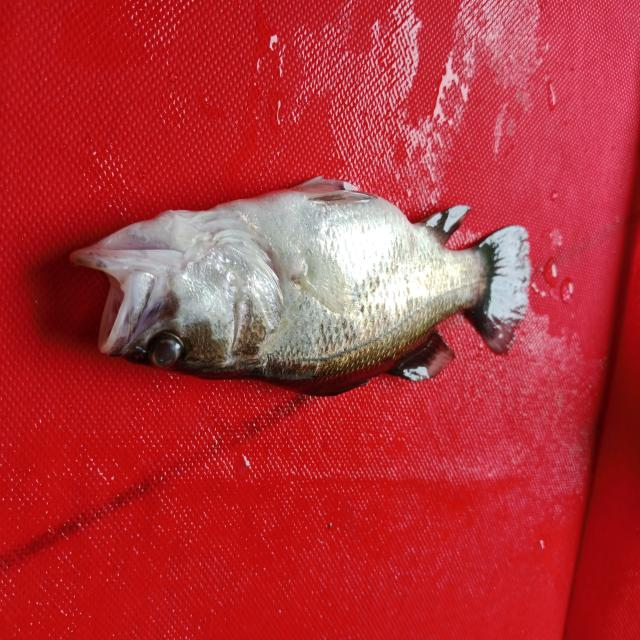ikan: (68, 148, 540, 424)
